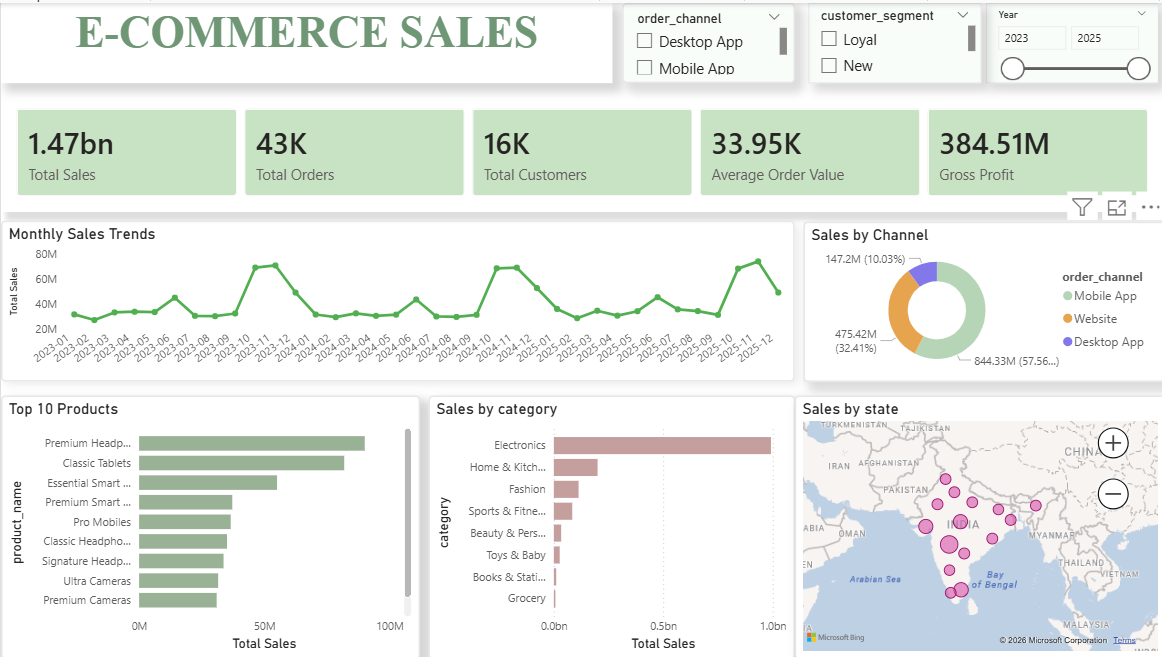

What the dashboard file says about the page in this screenshot:
{"tool":"powerbi","page":{"name":"Page 3","canvas":[1280,720],"ordinal":2},"visuals":[{"type":"cardVisual","fields":{"Data":["Measure.Total Sales","Measure.Total Orders","Measure.Total Customers","Measure.Average Order Value","Measure.Gross Profit"]},"box":[0,98.8,1280.3,130.4],"z":0},{"type":"slicer","fields":{"Values":["DateTable.Year"]},"box":[1081.3,0,189.4,87.8],"z":1000},{"type":"slicer","fields":{"Values":["customers.customer_segment"]},"box":[886.5,0,189.4,87.8],"z":2000},{"type":"lineChart","title":"Monthly Sales Trends","fields":{"Category":["DateTable.Year Month"],"Y":["Measure.Total Sales"]},"box":[0,238.8,871.4,177],"z":3000},{"type":"clusteredBarChart","title":"Top 10 Products","fields":{"Category":["products.product_name"],"Y":["Measure.Total Sales"]},"box":[0,430.9,459.7,289.5],"z":4000},{"type":"clusteredBarChart","title":"Sales by category","fields":{"Category":["products.category"],"Y":["Measure.Total Sales"]},"box":[469.3,430.9,402.1,289.5],"z":5000},{"type":"donutChart","title":"Sales by Channel","fields":{"Category":["orders.order_channel"],"Y":["Measure.Total Sales"]},"box":[881,240.1,399.3,175.6],"z":6000},{"type":"map","title":"Sales by state","fields":{"Category":["orders.shipping_state"],"Size":["Measure.Total Sales"]},"box":[871.4,430.9,408.9,289.5],"z":7000},{"type":"textbox","box":[0,0,671,87.8],"z":8000},{"type":"slicer","fields":{"Values":["orders.order_channel"]},"box":[682,0,189.4,87.8],"z":9000}]}

Visuals, with their boxes in screenshot pixels (x1, y1, x2, y2), scaled from the page's 1280x720 canvas onto the 1162x657 screenshot:
cardVisual - Measure.Total Sales x Measure.Total Orders: left=0, top=90, right=1161, bottom=209
slicer - DateTable.Year: left=982, top=0, right=1154, bottom=80
slicer - customers.customer_segment: left=805, top=0, right=977, bottom=80
"Monthly Sales Trends" lineChart: left=0, top=218, right=791, bottom=379
"Top 10 Products" clusteredBarChart: left=0, top=393, right=417, bottom=656
"Sales by category" clusteredBarChart: left=426, top=393, right=791, bottom=656
"Sales by Channel" donutChart: left=800, top=219, right=1161, bottom=379
"Sales by state" map: left=791, top=393, right=1161, bottom=656
textbox: left=0, top=0, right=609, bottom=80
slicer - orders.order_channel: left=619, top=0, right=791, bottom=80
